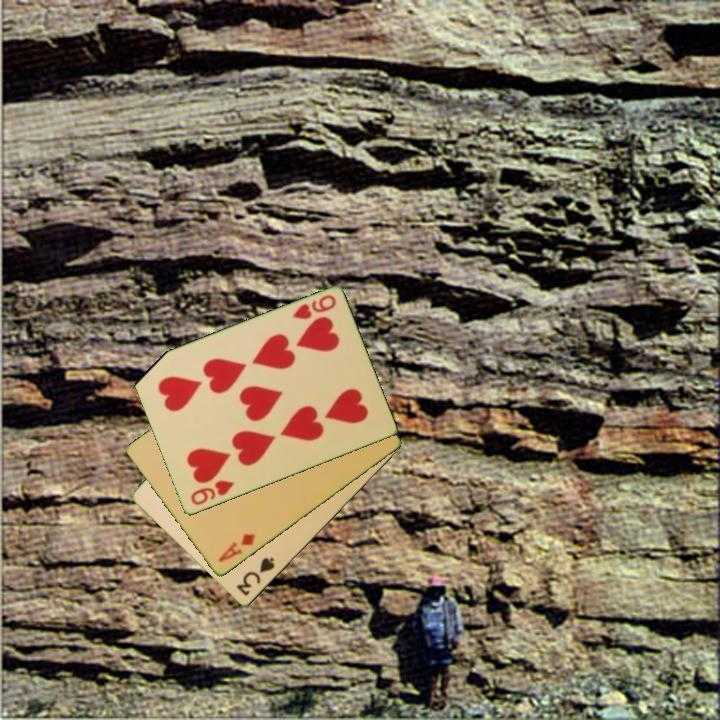3s: (233, 554, 278, 599)
9h: (187, 477, 237, 508), (289, 292, 339, 323)
Ad: (215, 530, 258, 566)
